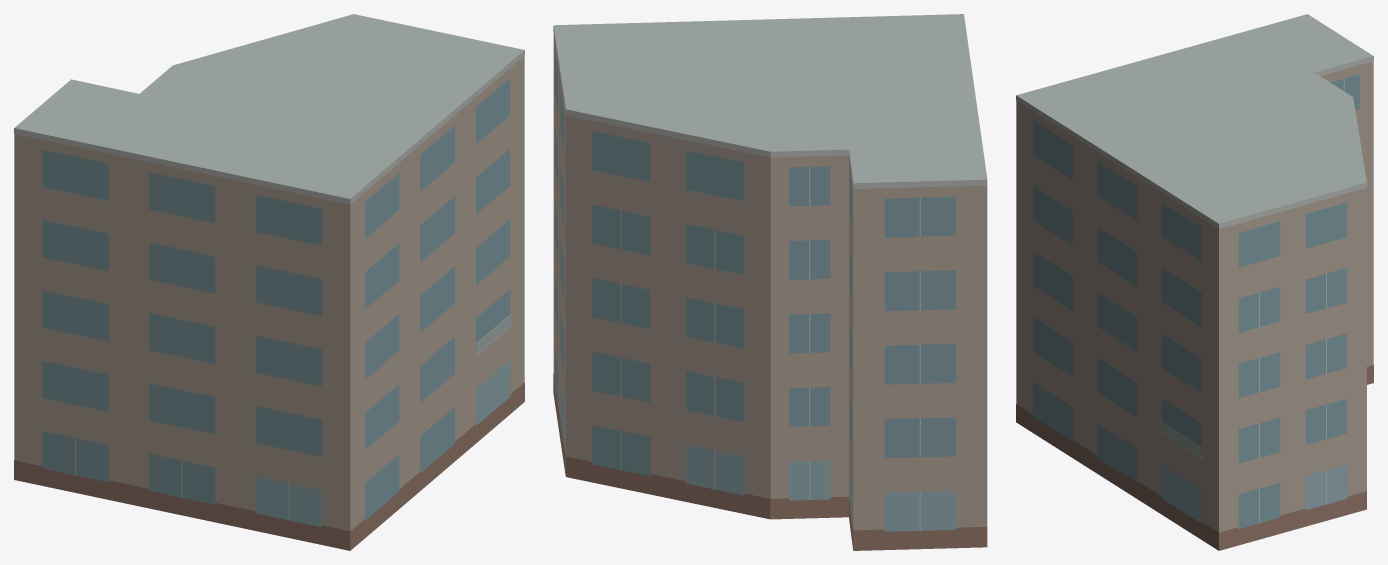
Rendered from survey-upis-32992591.glb.
3 views of the same model, side by side, from view 1: azimuth 30°, elevation 25°; view 2: azimuth 150°, elevation 25°; view 3: azimuth 270°, elevation 25° (orthographic). The views are drawn at different scales.
Visible parts, largest first — view 1: survey-upis-32992591.tmp; view 2: survey-upis-32992591.tmp; view 3: survey-upis-32992591.tmp.
Boxes of the visible parts, x1,y1,x2,y2 form: survey-upis-32992591.tmp: [14, 14, 524, 550]; survey-upis-32992591.tmp: [553, 14, 987, 550]; survey-upis-32992591.tmp: [1016, 14, 1373, 550].
Bounding box in the file's own units: 21.01 × 15.25 × 15.12.
